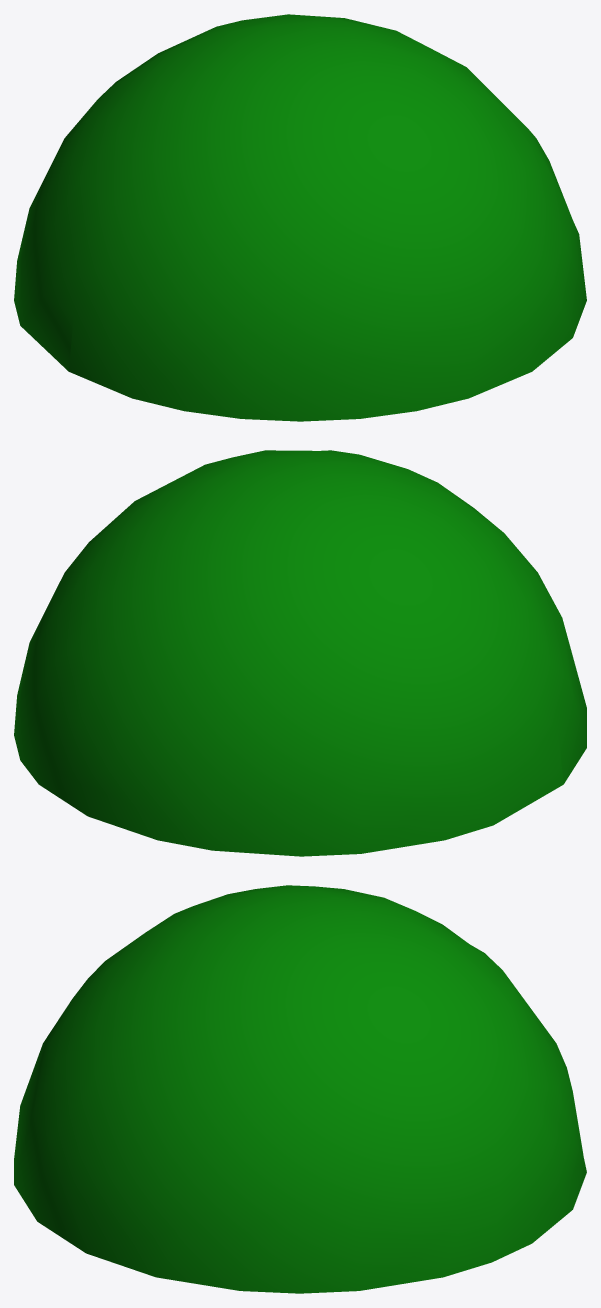
Rendered from banqiu_005.FBX.
3 views of the same model, one above another, from view 1: azimuth 30°, elevation 25°; view 2: azimuth 150°, elevation 25°; view 3: azimuth 270°, elevation 25° (orthographic).
Visible parts, largest first — view 1: banqiu_005; view 2: banqiu_005; view 3: banqiu_005.
Boxes of the visible parts, <box> form: banqiu_005: <box>14,14,586,421</box>; banqiu_005: <box>14,450,586,856</box>; banqiu_005: <box>14,885,586,1293</box>.
Size of the model in its own units: 179 by 89.2 by 179.
